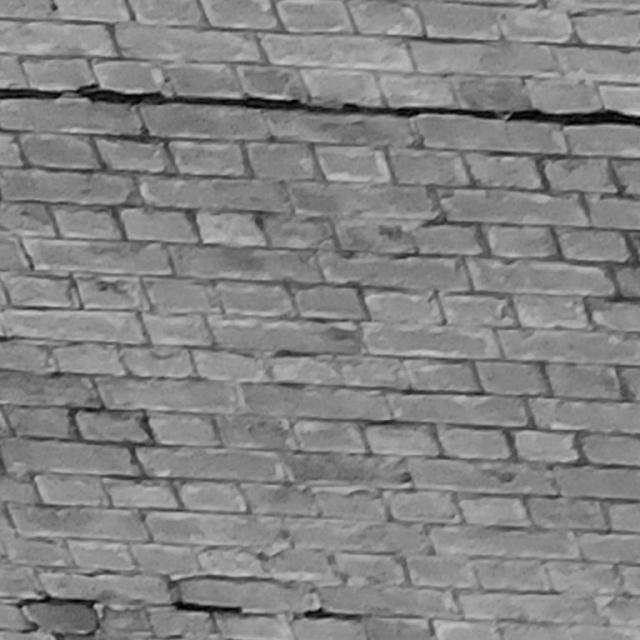crack: (1, 83, 640, 127)
